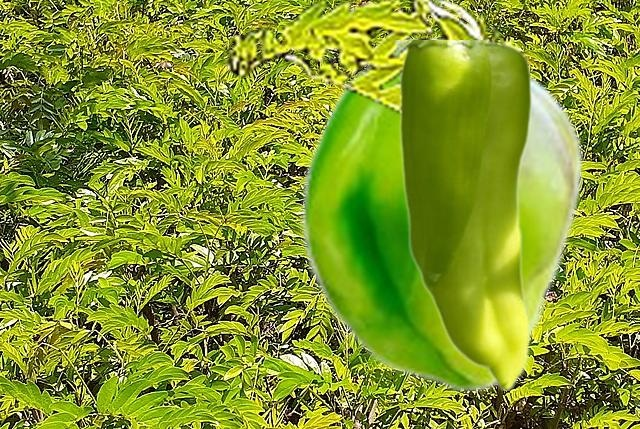green_chili: (300, 39, 584, 393), (393, 40, 530, 389)
